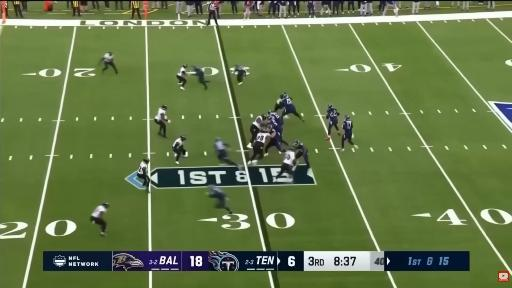Helmet: (102, 202, 110, 209), (327, 102, 334, 109), (295, 139, 301, 147), (344, 115, 351, 121), (161, 105, 168, 110), (144, 158, 150, 163), (180, 136, 186, 141), (268, 125, 274, 130), (214, 138, 220, 142), (261, 130, 267, 134), (262, 115, 266, 120), (268, 116, 272, 121), (183, 64, 187, 68), (268, 111, 272, 115), (110, 52, 113, 56), (235, 65, 239, 68), (285, 94, 288, 98)
Jersey: (209, 187, 225, 200), (327, 108, 339, 123), (270, 113, 283, 126), (92, 206, 106, 218), (283, 151, 295, 165), (296, 143, 307, 158), (252, 115, 263, 129), (155, 108, 166, 121), (343, 120, 353, 134), (137, 162, 147, 176), (215, 140, 225, 153), (256, 133, 269, 143), (173, 138, 183, 149), (284, 97, 294, 107), (270, 130, 279, 141), (177, 67, 186, 76), (103, 54, 113, 62), (195, 67, 203, 76), (236, 68, 244, 73)
Player: (275, 93, 304, 121), (215, 138, 241, 169), (248, 128, 269, 165), (273, 150, 296, 182), (208, 185, 232, 214), (268, 111, 288, 145), (247, 115, 267, 148), (90, 202, 109, 236), (264, 126, 285, 156), (342, 115, 358, 150), (294, 140, 310, 174), (326, 104, 340, 139), (155, 105, 170, 137), (137, 158, 150, 191), (173, 135, 187, 164), (100, 52, 118, 74), (193, 66, 208, 89), (273, 93, 288, 112), (234, 65, 247, 85), (177, 65, 187, 89)
